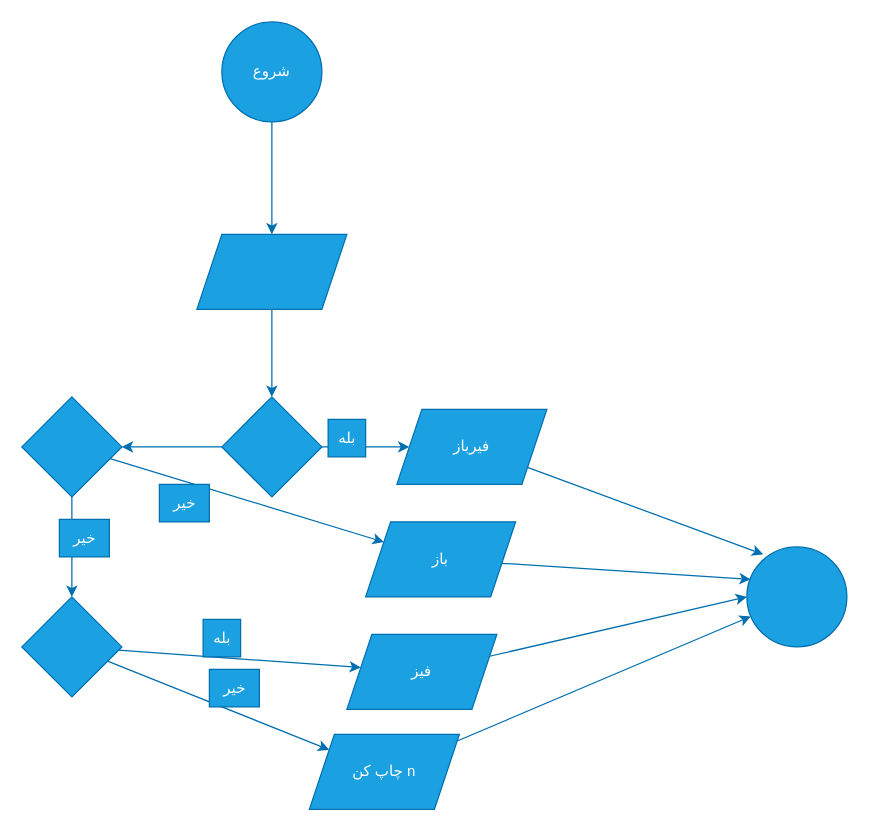
The diagram is 869 pixels wide and 831 high, and some of its shapes have lost their labels. The centre of each missing label's shape, as x and y in pixels:
n % 15 = 0: (271,446)
n % 3 = 0: (71,646)
n % 5 = 0: (71,446)
n بگیر: (271,271)
پایان: (796,596)
